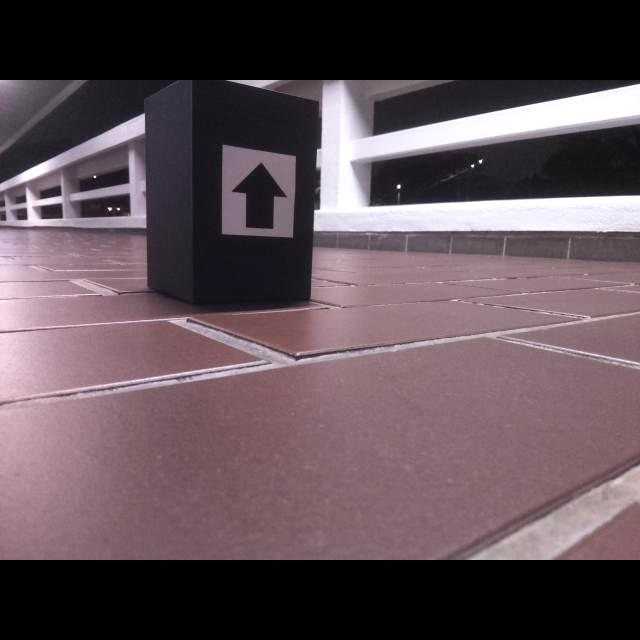UP: (230, 162, 288, 230)
